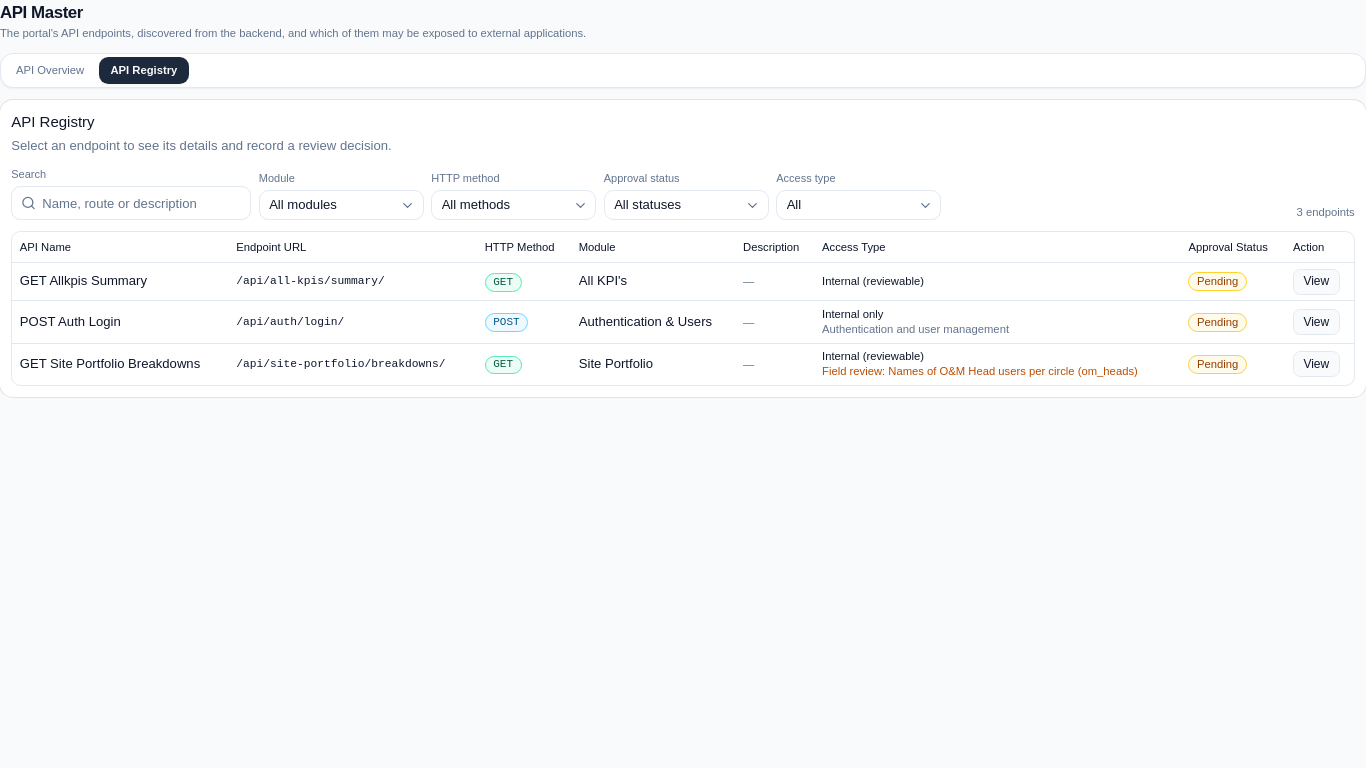
API Master › asks for a field review confirmation and shows the backend refusal
Click the button with aria-label "View GET /api/site-portfolio/breakdowns/".
click(1316, 364)  # box [1293,351,1340,378]
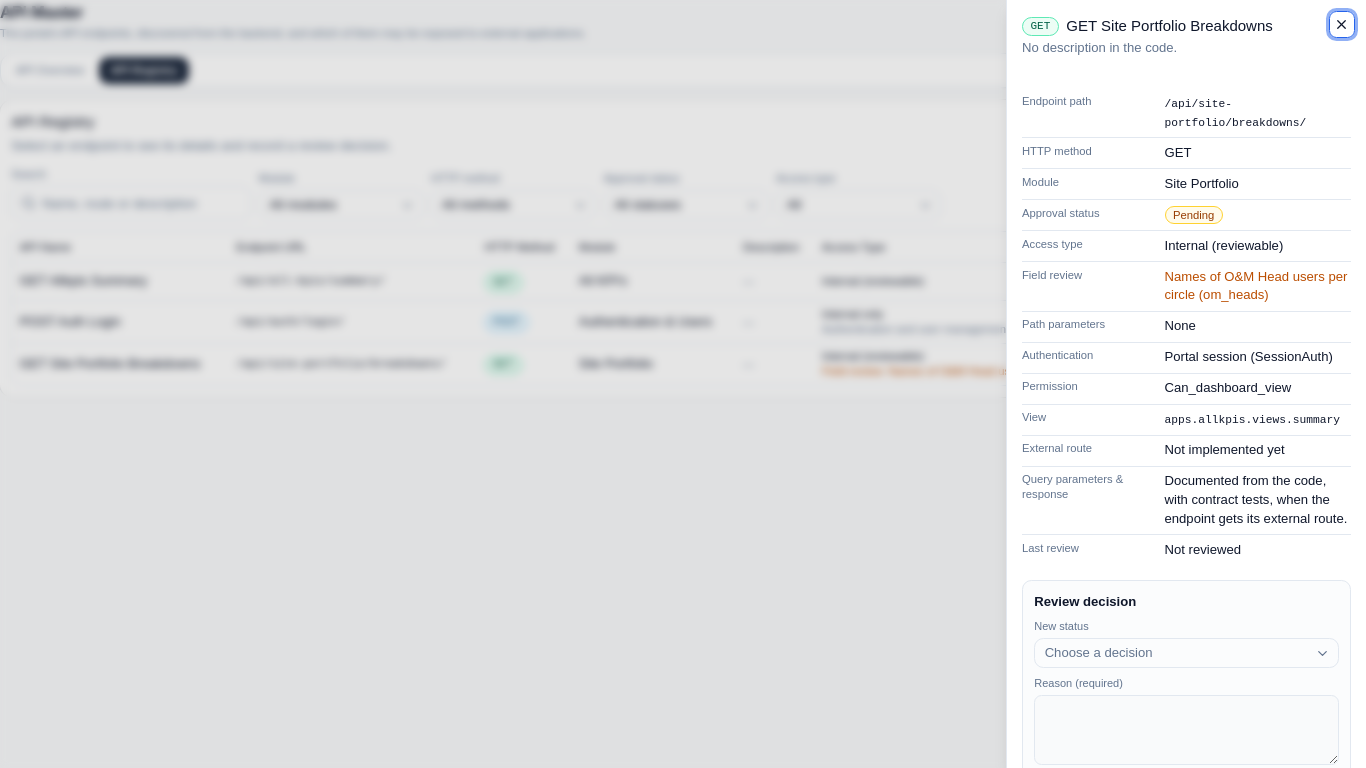
Click the dropdown.
click(1099, 652)  # box [1034,638,1339,668]
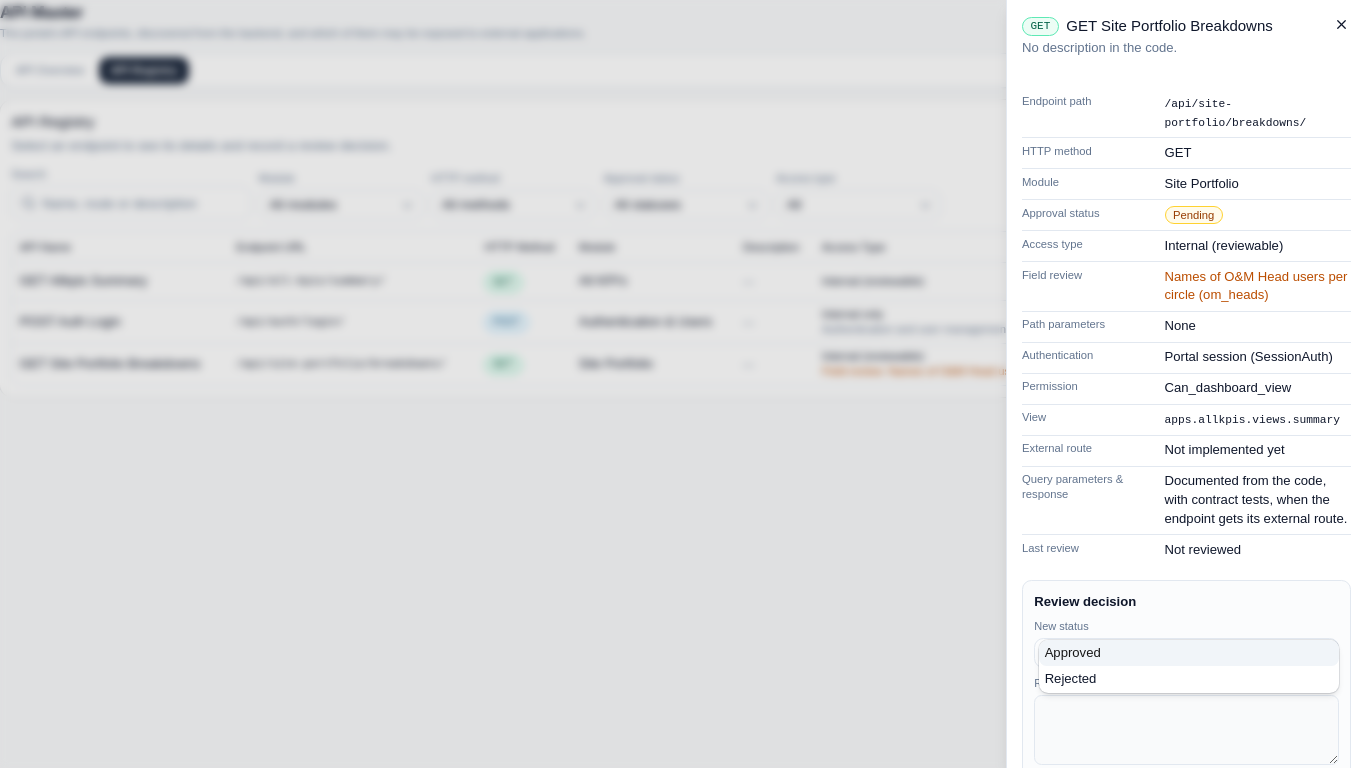
Click the option "Approved".
click(1073, 652)  # box [1039,640,1339,666]
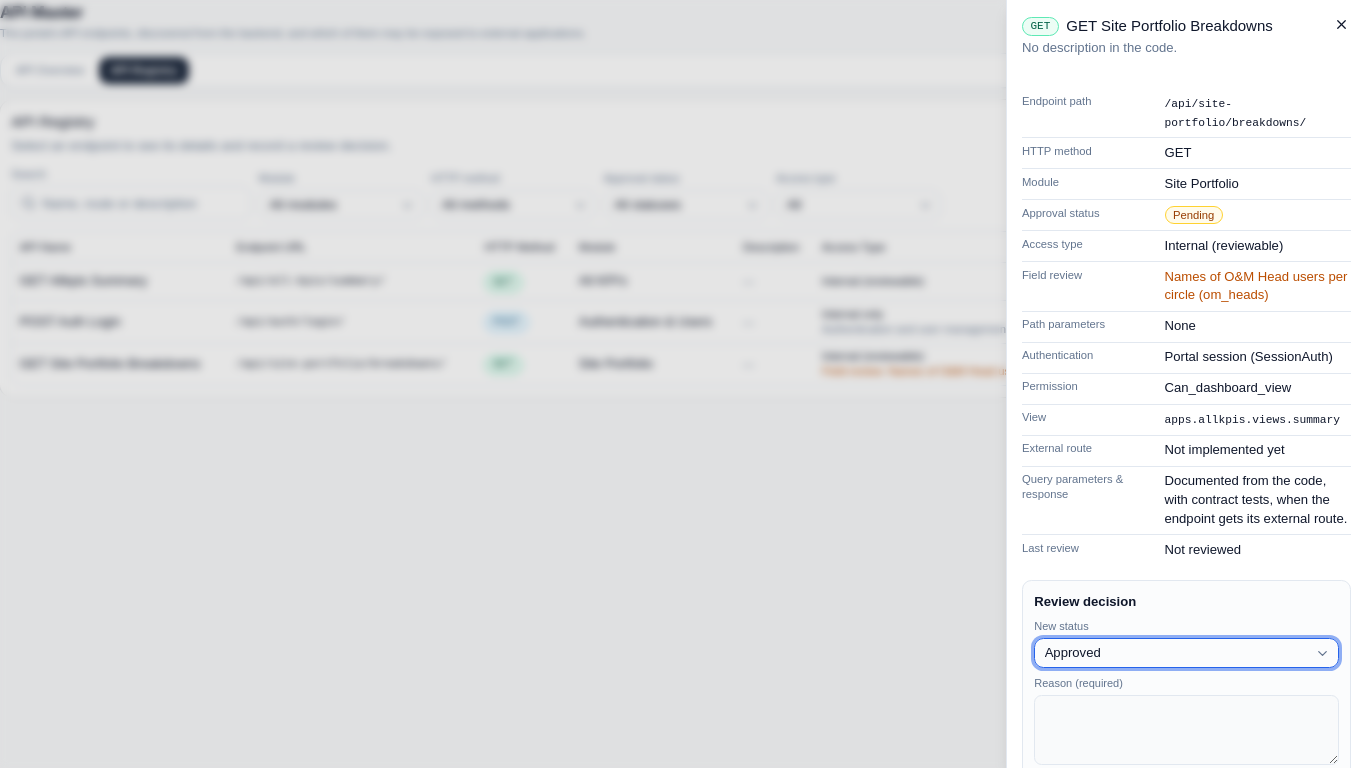
Type "Needed" into the text box labelled "Reason (required)".
click(1187, 730); type("Needed")  # box [1034,695,1339,765]
(page scrolled)
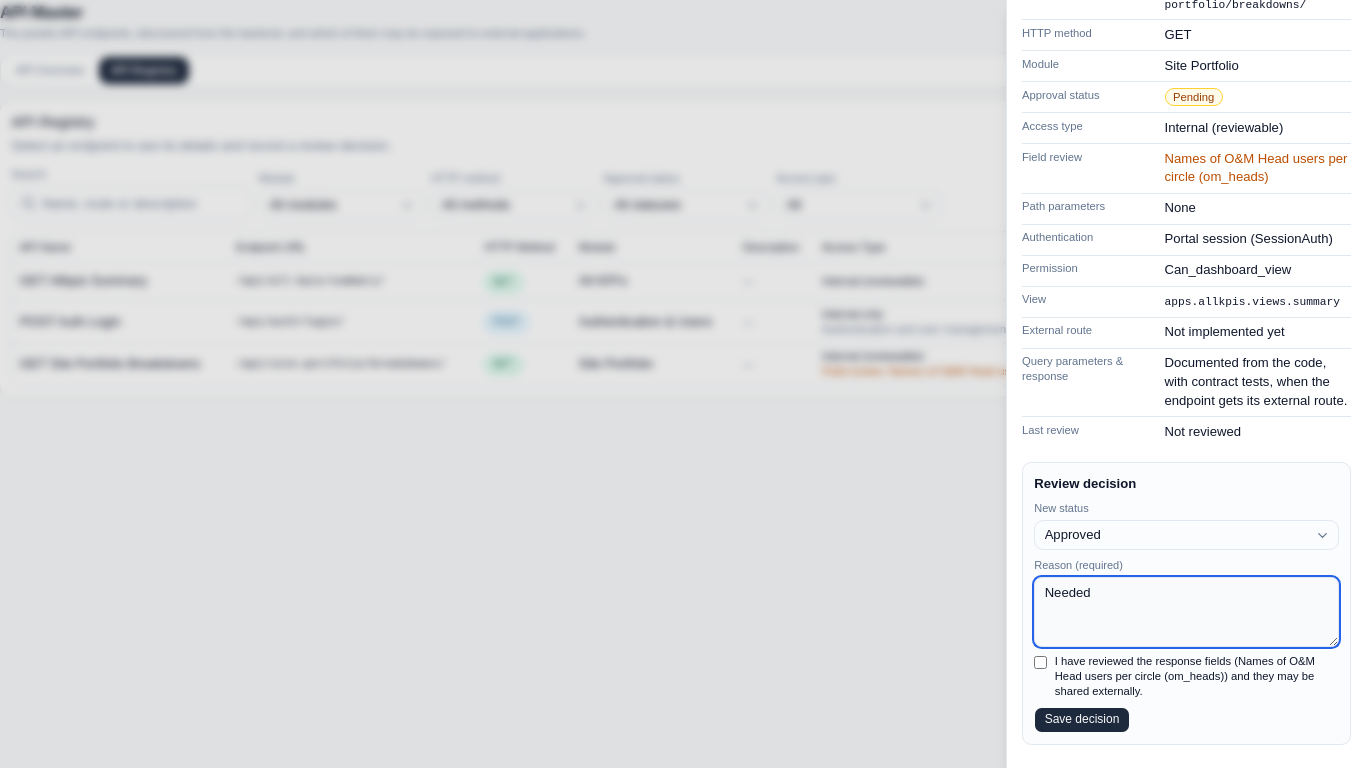
Click the button "Save decision".
click(1082, 720)  # box [1034,707,1130,733]
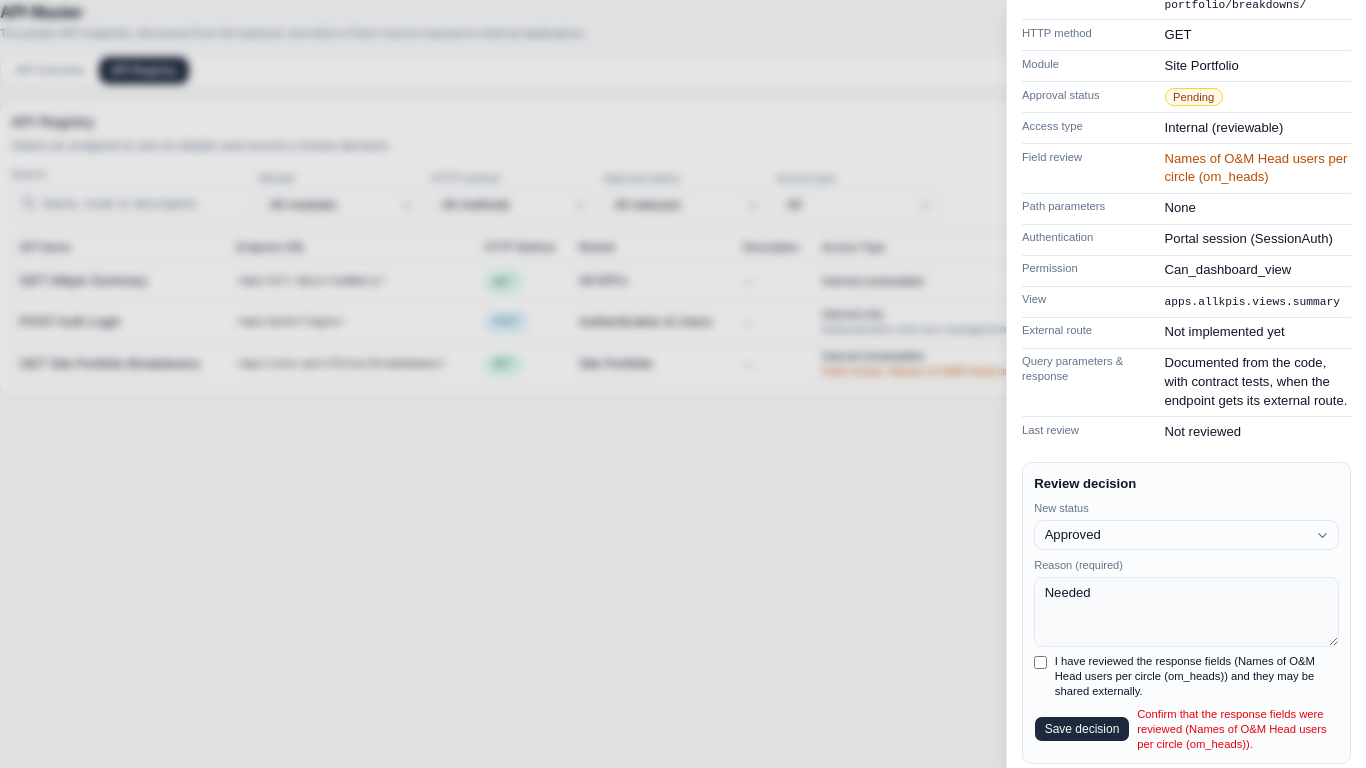
Check: the message shows "Confirm that the response fields were reviewed", box [1137,708,1327,750]
